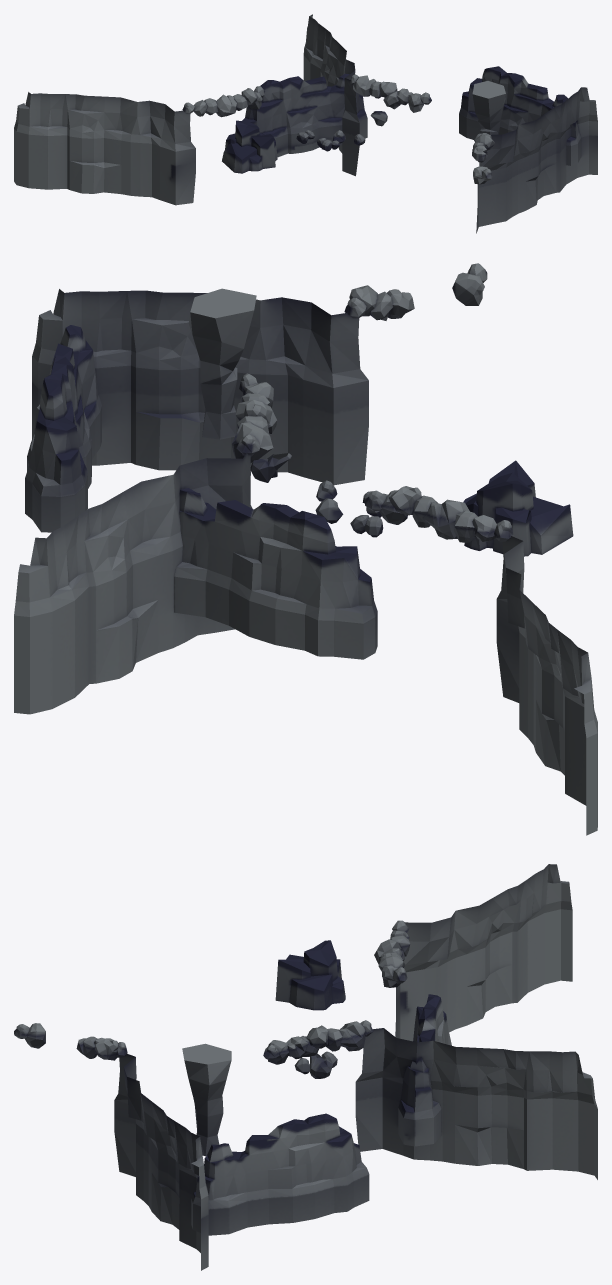
File: Wall_01.FBX
3 renders of one model, top to bottom at view 1: azimuth 30°, elevation 25°; view 2: azimuth 150°, elevation 25°; view 3: azimuth 270°, elevation 25°, orthographic. The views are drawn at different scales.
Visible parts, largest first — view 1: Wall_01; view 2: Wall_01; view 3: Wall_01.
Part boxes in pixels (<box>): Wall_01: <box>14,14,597,233</box>; Wall_01: <box>14,263,597,835</box>; Wall_01: <box>14,864,597,1270</box>.
Size of the model in its own units: 54.33 by 12.8 by 46.2.
